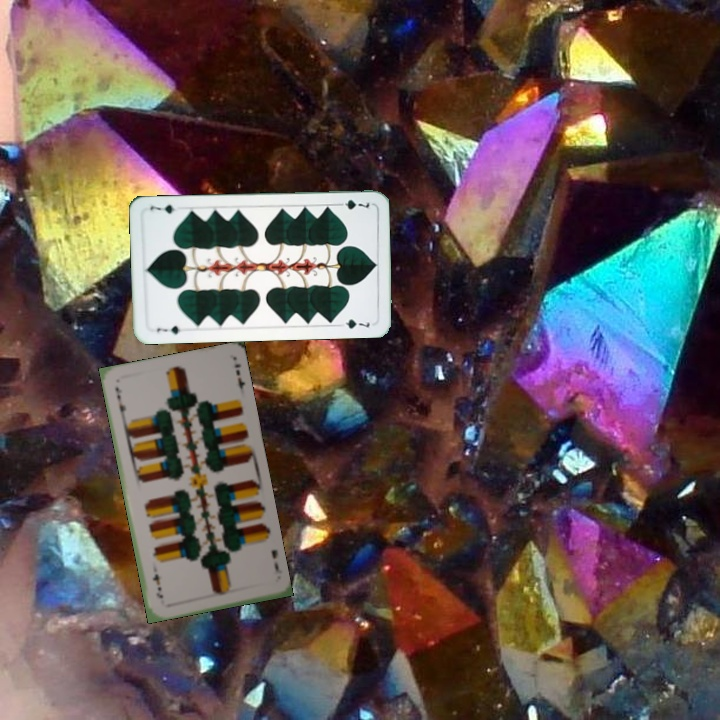E7: (111, 383, 128, 420), (267, 545, 283, 576)
G7: (332, 196, 372, 212), (152, 322, 183, 337)
